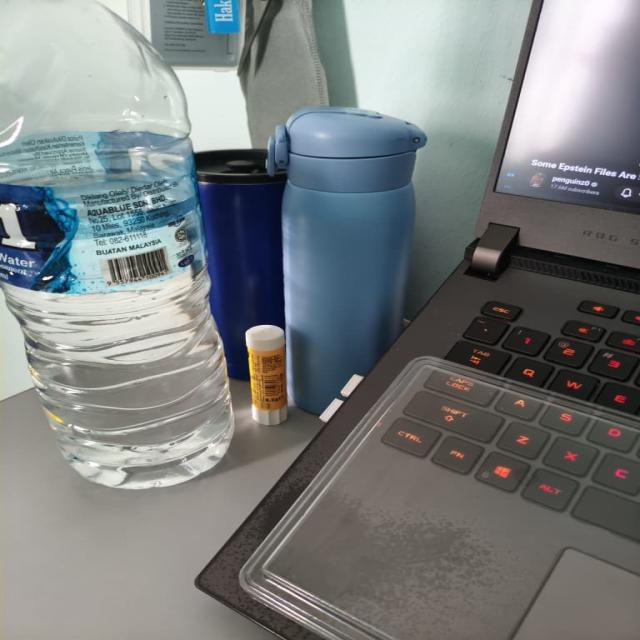glue: (245, 325, 287, 424)
